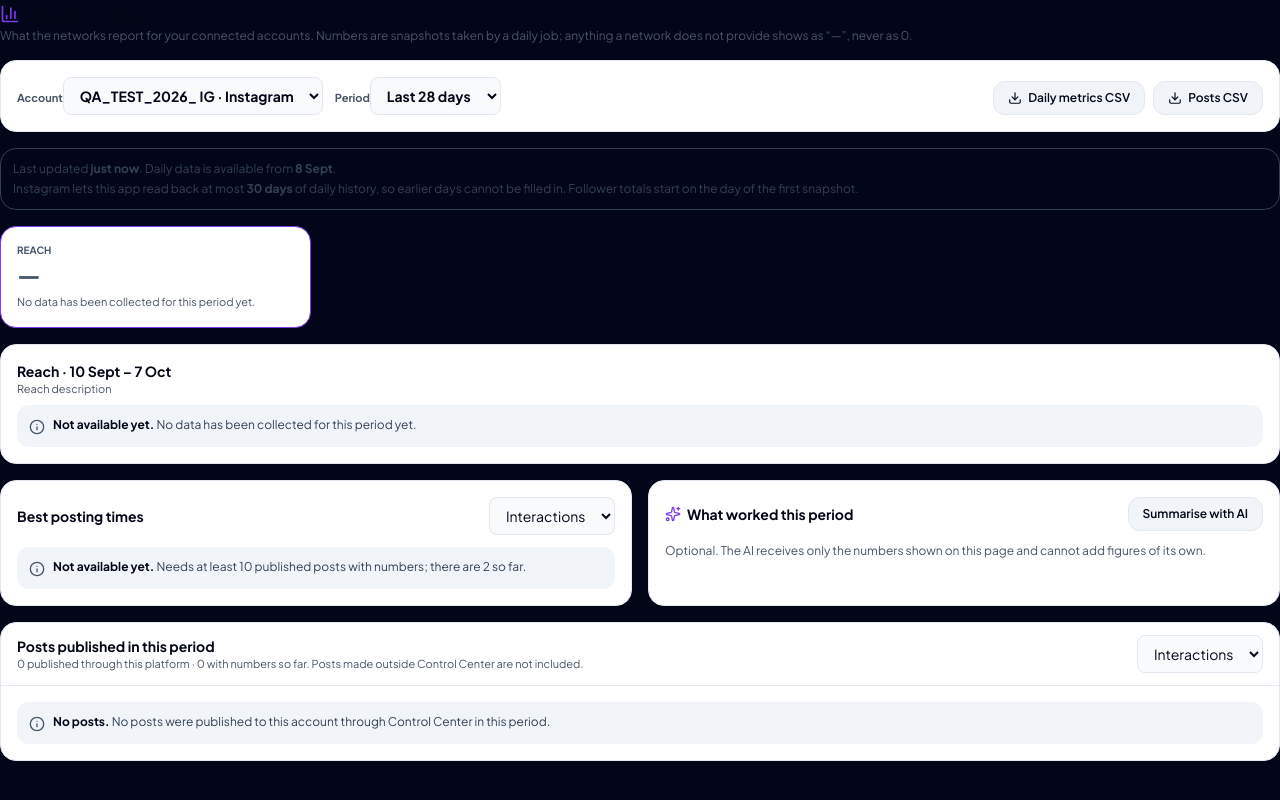
Test: SocialAnalyticsPage › hides the AI summary when no provider is configured, and labels it AI-generated when available
Expected: the element labelled "Best posting times" is shown, [0,480,632,606]
Click the button "Summarise with AI": (1195, 514) [1128,497,1263,531]
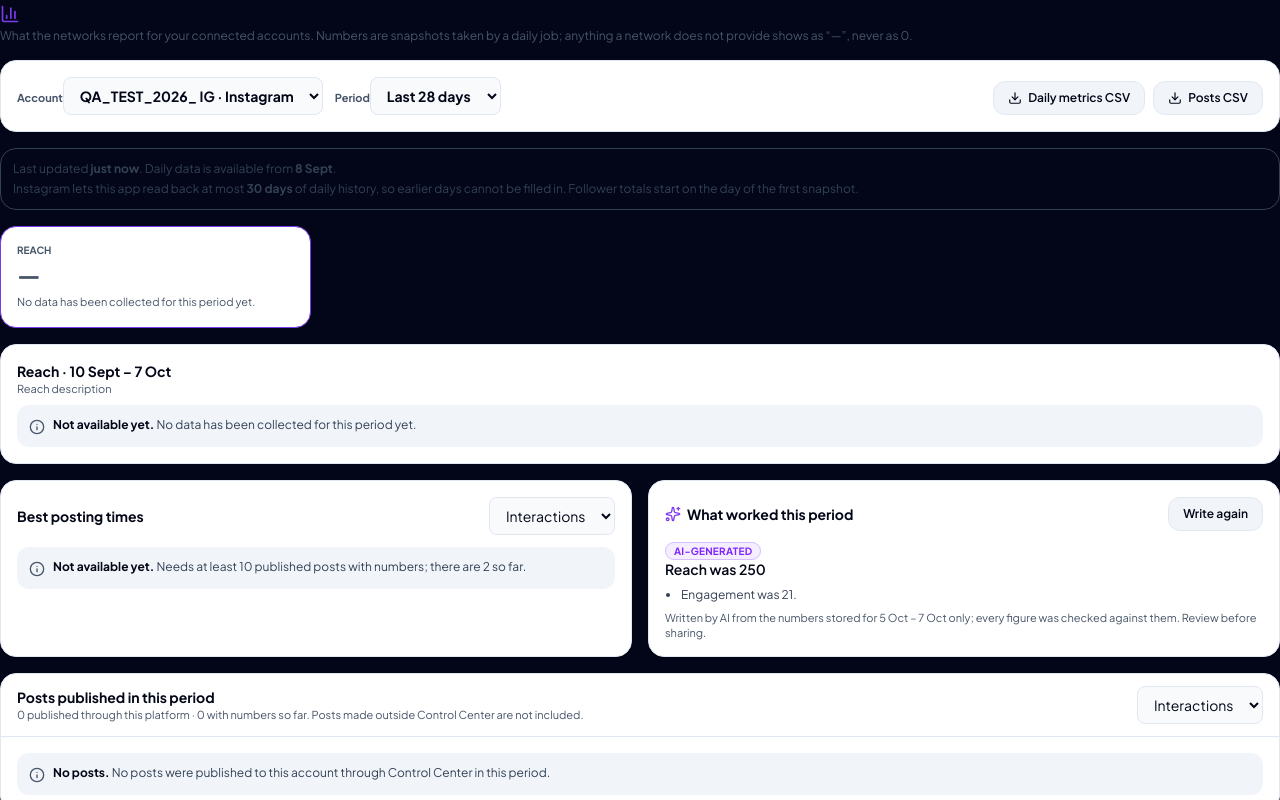
Now the text "AI-generated" is shown, box [665,542,761,560]
Now the text "Reach was 250" is shown, box [665,560,766,578]
Now the text "every figure was checked against them" is shown, box [665,611,1256,639]
